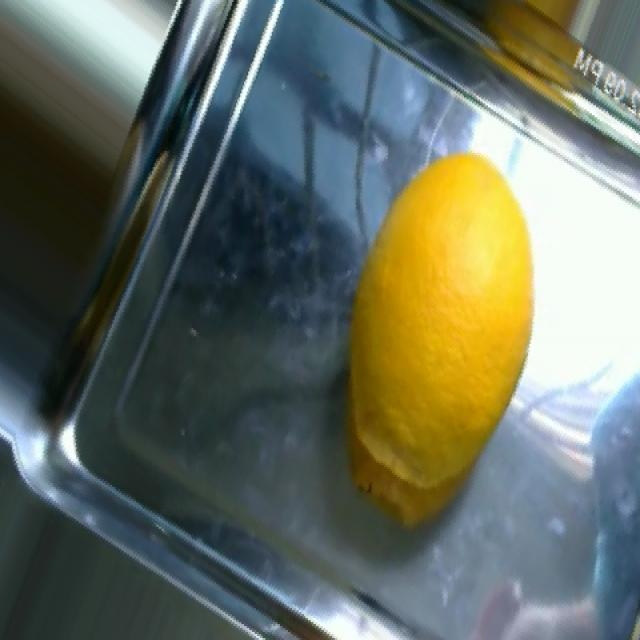Fruit: (338, 137, 554, 507)
